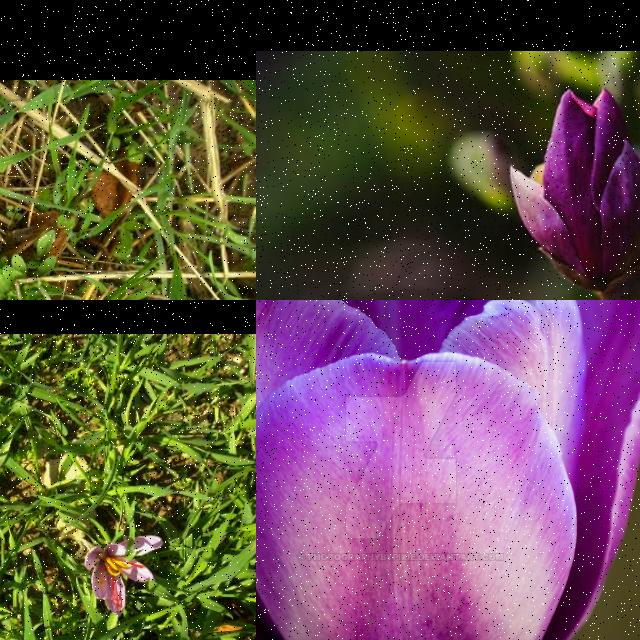flower: (86, 536, 164, 618)
